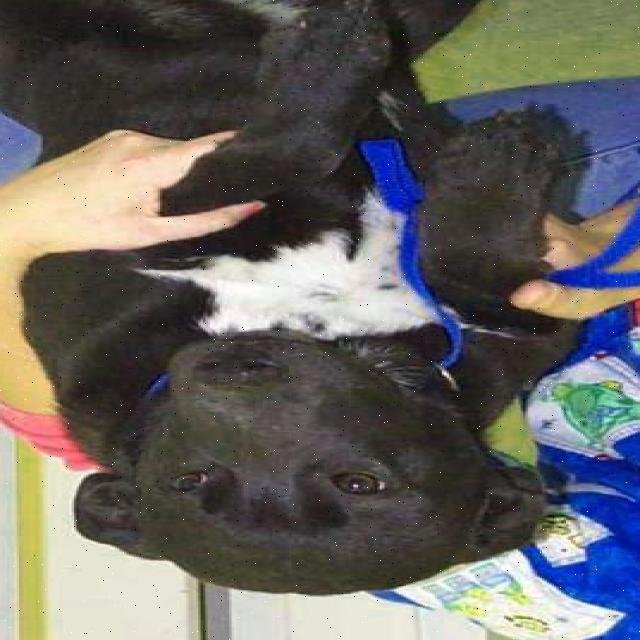Dog: (61, 329, 569, 600)
